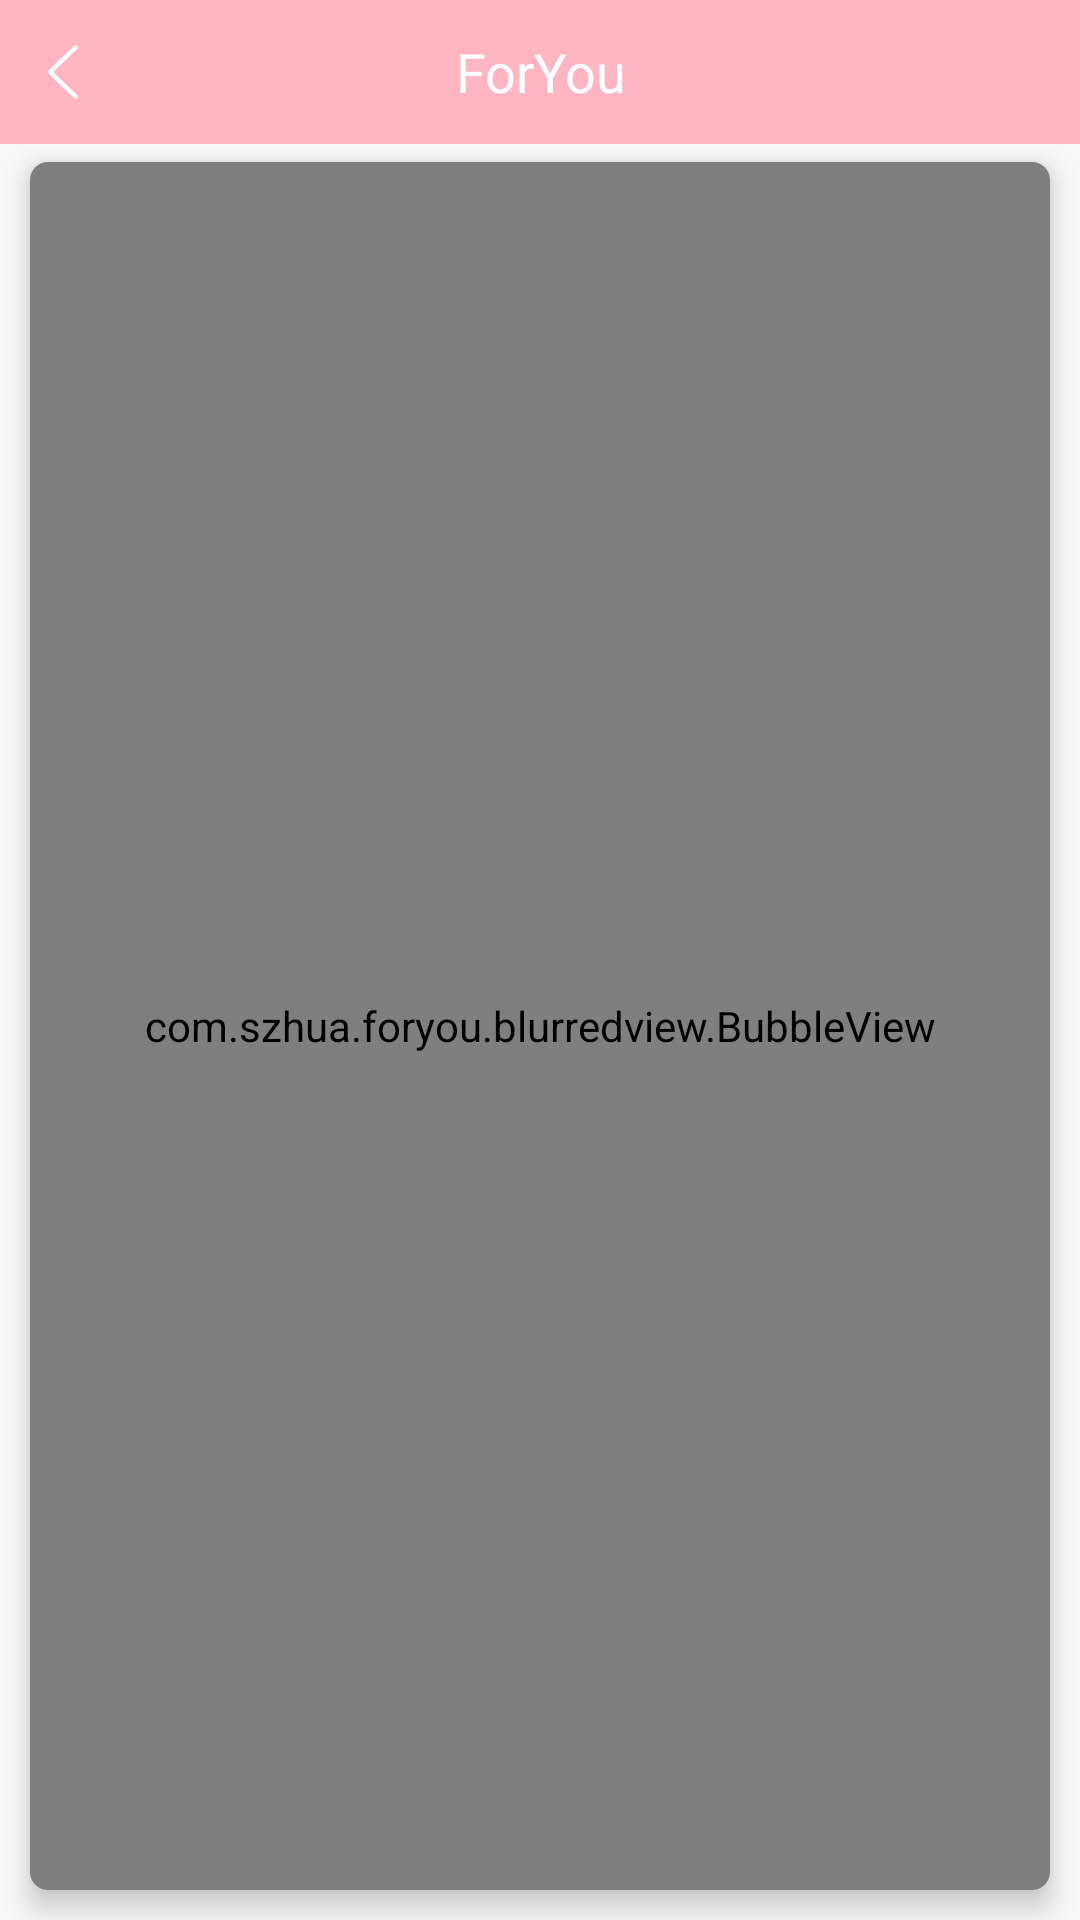

Point at icon controls on the screen. Image size 1080x1920, points as (x,y).
back: (63,72)
